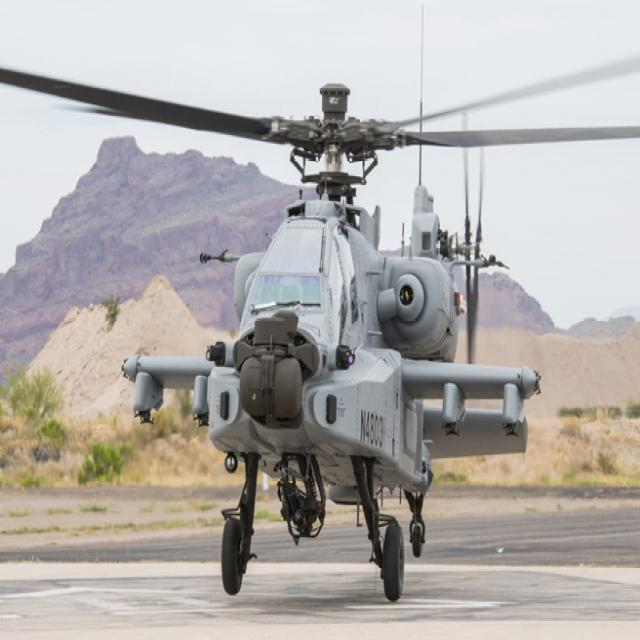helicopter: (1, 48, 640, 603)
